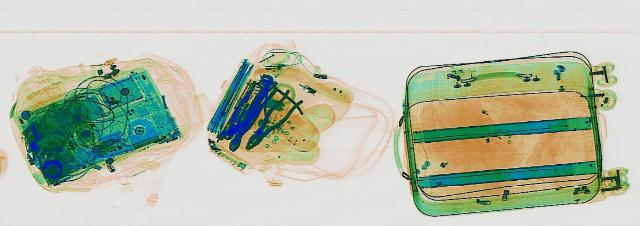Pliers: (234, 88, 314, 150)
